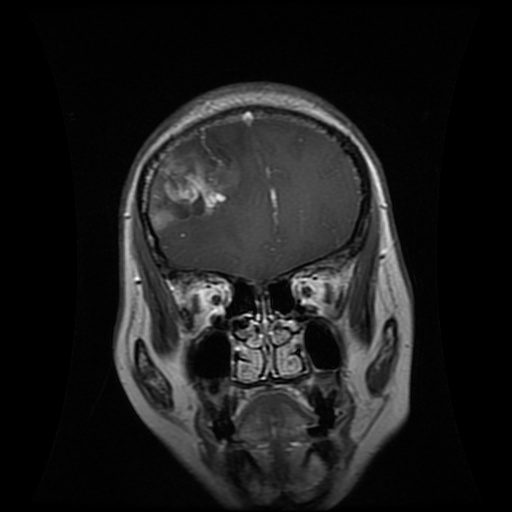glioma: (149, 133, 244, 231)
